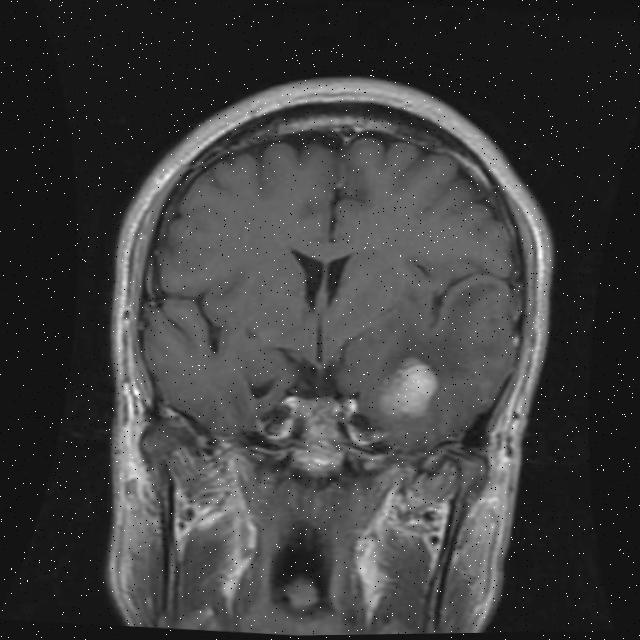Meningioma: (373, 352, 441, 421)
